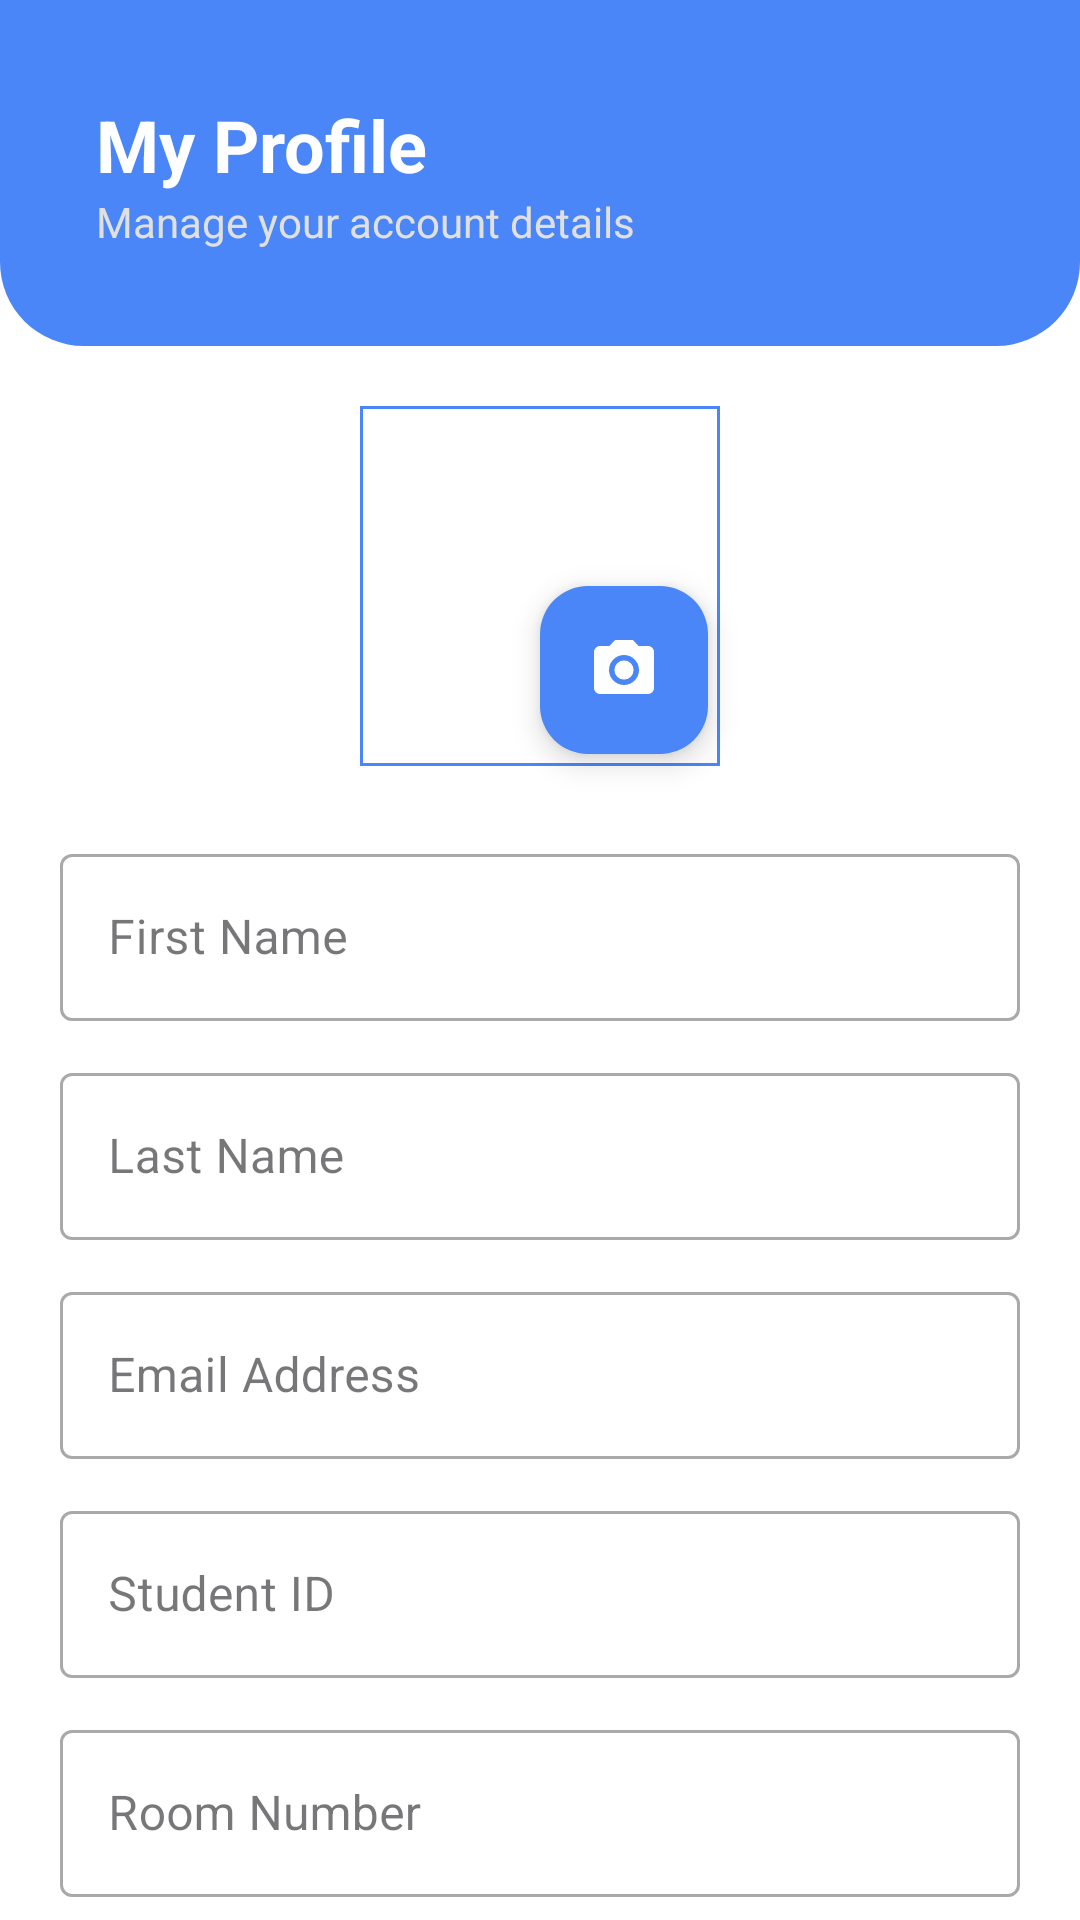

Named icons in this screenshot (1080 × 1920) and their centers, [x,y]:
camera: [624,670]
